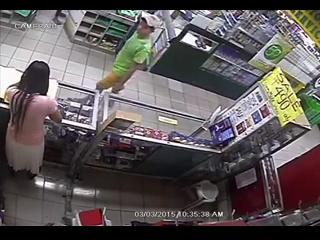Normal: (4, 60, 64, 180), (95, 13, 163, 95)
